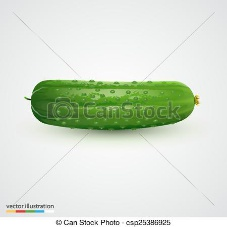cucumber: (30, 80, 197, 131)
